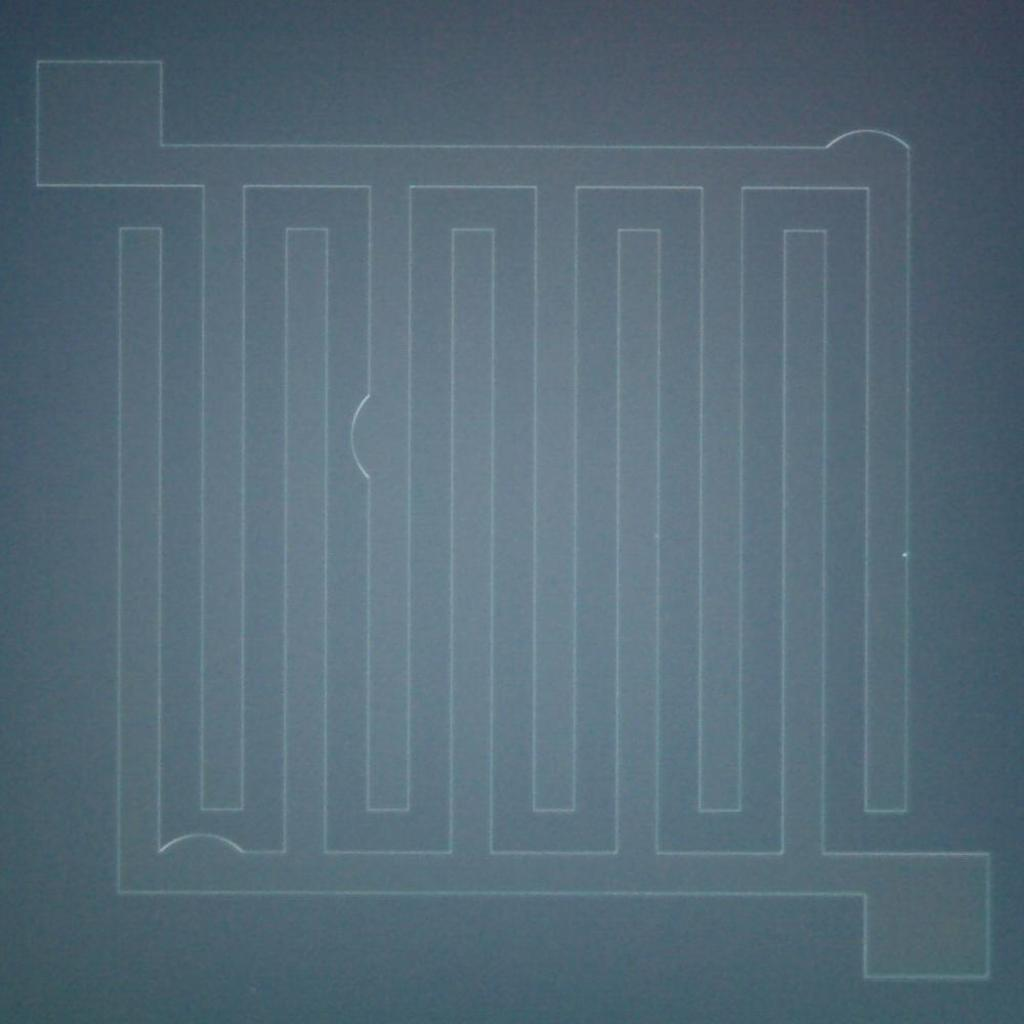dot: (902, 553, 906, 557)
